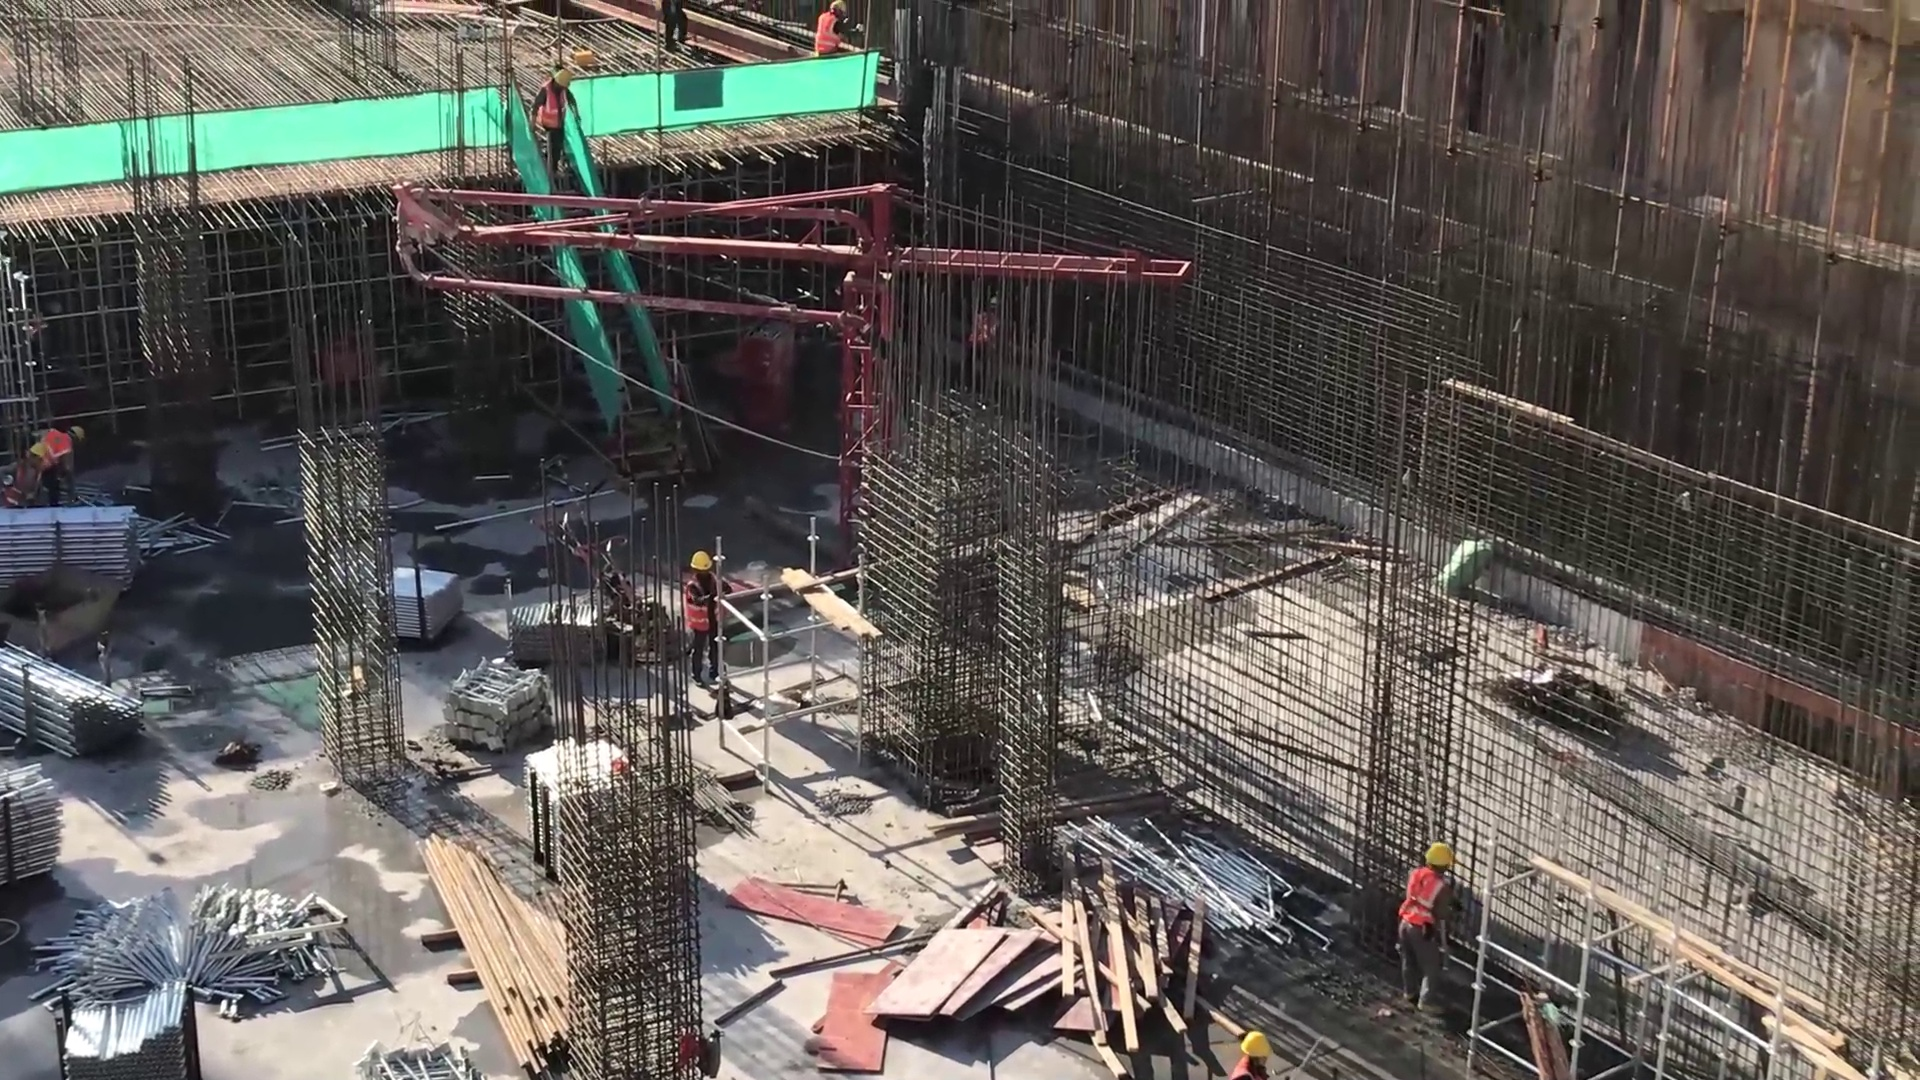board: (873, 923, 1050, 1016)
helmet: (1242, 1029, 1269, 1055), (1425, 843, 1450, 866), (689, 551, 710, 570), (551, 69, 571, 87), (69, 424, 83, 440), (829, 1, 844, 13)
person: (1398, 839, 1459, 1004), (673, 543, 729, 683), (29, 420, 93, 499), (531, 74, 581, 174), (4, 443, 44, 519), (808, 4, 854, 57), (1231, 1030, 1277, 1080)
scaffold: (1100, 826, 1282, 926), (5, 647, 155, 760), (74, 956, 205, 1076), (11, 506, 147, 585), (5, 769, 65, 893), (394, 564, 461, 650), (508, 596, 558, 662)
vest: (1403, 868, 1441, 934), (684, 578, 722, 636), (541, 86, 569, 130), (819, 12, 844, 54)
wood: (431, 838, 565, 1066), (1070, 870, 1193, 1050)
